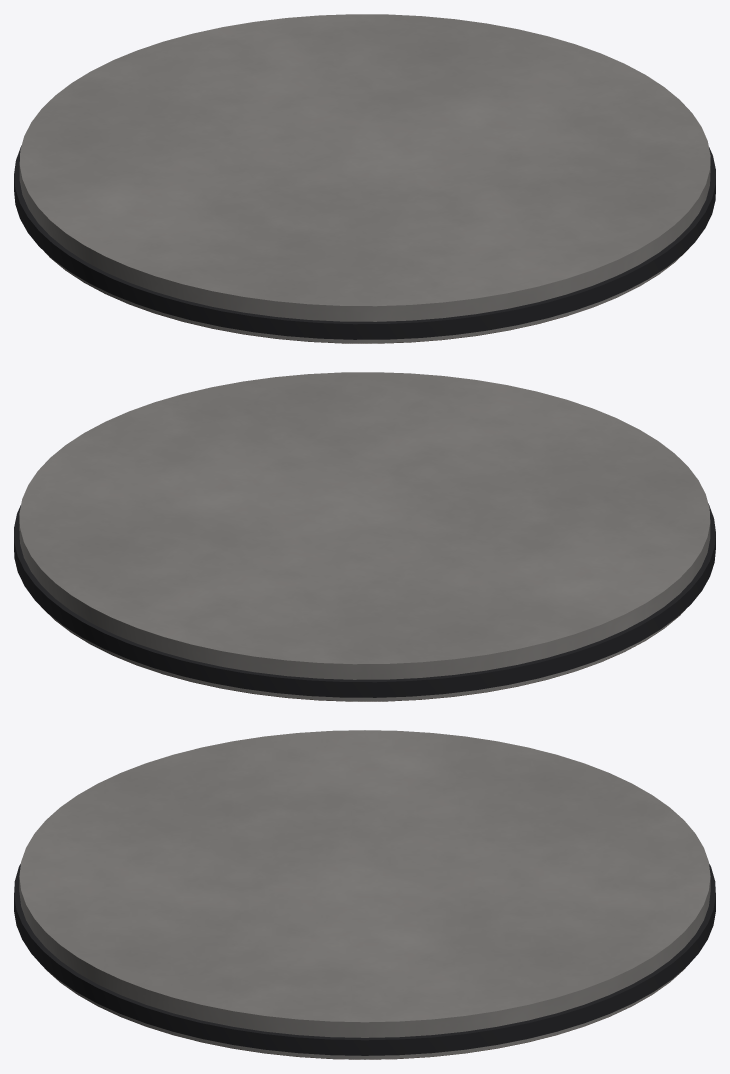
File: stage05_heatshield_m.glb
3 views of the same model, one above another, from view 1: azimuth 30°, elevation 25°; view 2: azimuth 150°, elevation 25°; view 3: azimuth 270°, elevation 25° (orthographic).
Visible parts, largest first — view 1: carrier, shoulder_band; view 2: carrier, shoulder_band; view 3: carrier, shoulder_band.
Part boxes in pixels (x1=…): carrier: x1=19, y1=14, x2=710, y2=343; shoulder_band: x1=14, y1=145, x2=715, y2=339; carrier: x1=19, y1=372, x2=710, y2=701; shoulder_band: x1=14, y1=503, x2=715, y2=697; carrier: x1=19, y1=730, x2=710, y2=1059; shoulder_band: x1=14, y1=863, x2=715, y2=1055.
Size of the model in its own units: 2.54 by 0.4228 by 2.54.
3 materials, 2 textured.
